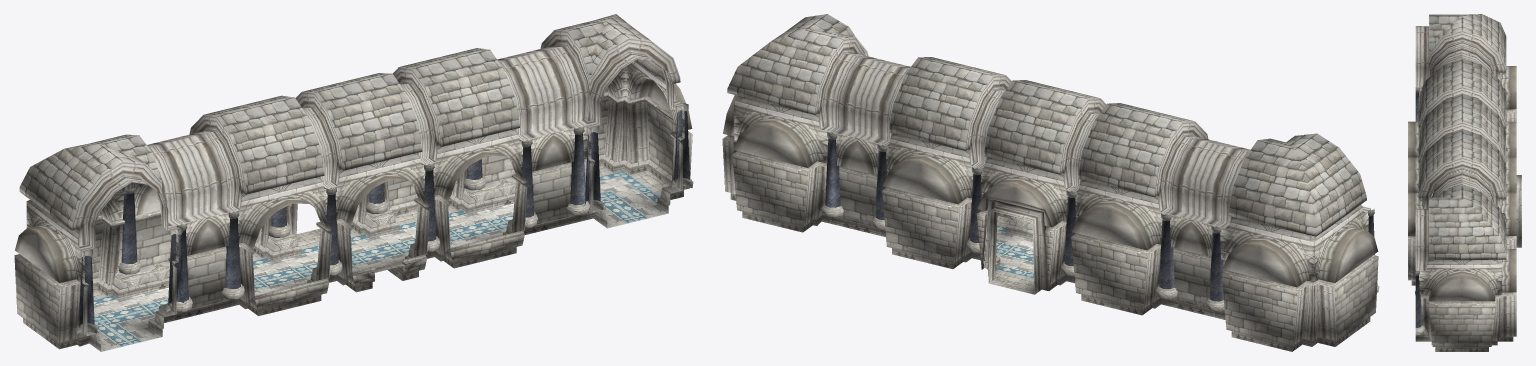
The model's file is stormwind_163.fbx.
3 renders of one model, left to right at view 1: azimuth 30°, elevation 25°; view 2: azimuth 150°, elevation 25°; view 3: azimuth 270°, elevation 25°, orthographic. The views are drawn at different scales.
Visible parts, largest first — view 1: stormwind_163_166, stormwind_163_165, stormwind_163_168, stormwind_163_167, stormwind_163_164, stormwind_163_169, stormwind_163_47; view 2: stormwind_163_166, stormwind_163_165, stormwind_163_168, stormwind_163_164, stormwind_163_169, stormwind_163_167; view 3: stormwind_163_165, stormwind_163_166, stormwind_163_168, stormwind_163_164, stormwind_163_169.
Part boxes in pixels (x1,y1,x2,y2): stormwind_163_166: [15, 30, 693, 351]; stormwind_163_165: [19, 14, 660, 309]; stormwind_163_168: [15, 61, 692, 284]; stormwind_163_167: [93, 170, 668, 351]; stormwind_163_164: [14, 97, 675, 342]; stormwind_163_169: [78, 110, 690, 327]; stormwind_163_47: [93, 165, 669, 299]; stormwind_163_166: [722, 36, 1379, 351]; stormwind_163_165: [727, 14, 1366, 236]; stormwind_163_168: [723, 95, 1378, 287]; stormwind_163_164: [732, 154, 1378, 345]; stormwind_163_169: [825, 138, 1374, 301]; stormwind_163_167: [996, 225, 1034, 278]; stormwind_163_165: [1418, 14, 1506, 259]; stormwind_163_166: [1408, 26, 1521, 351]; stormwind_163_168: [1408, 66, 1516, 301]; stormwind_163_164: [1428, 305, 1495, 346]; stormwind_163_169: [1415, 92, 1421, 327].
Size of the model in its own units: 75.99 by 20.27 by 15.98.
